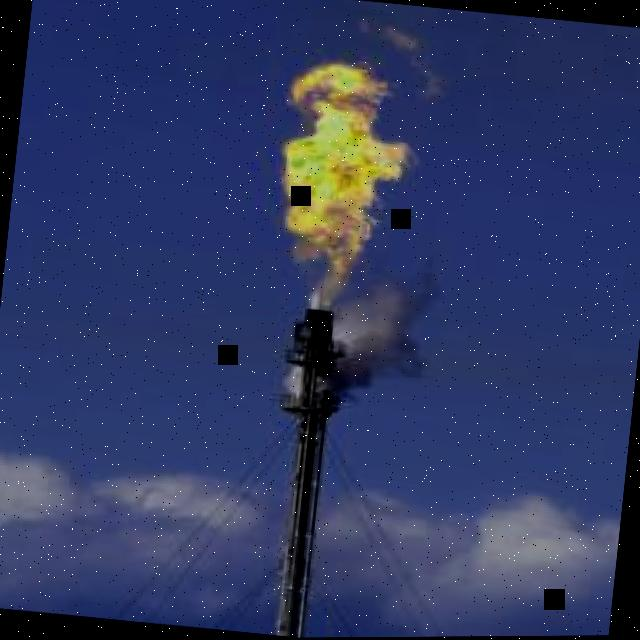fire: (282, 65, 418, 307)
smoke: (313, 261, 434, 400), (282, 365, 303, 392)
